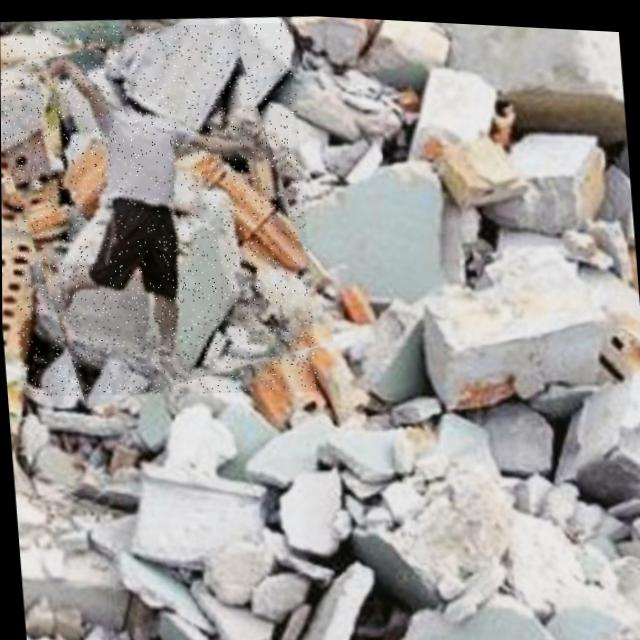Person in Rubble: (0, 7, 318, 408)
